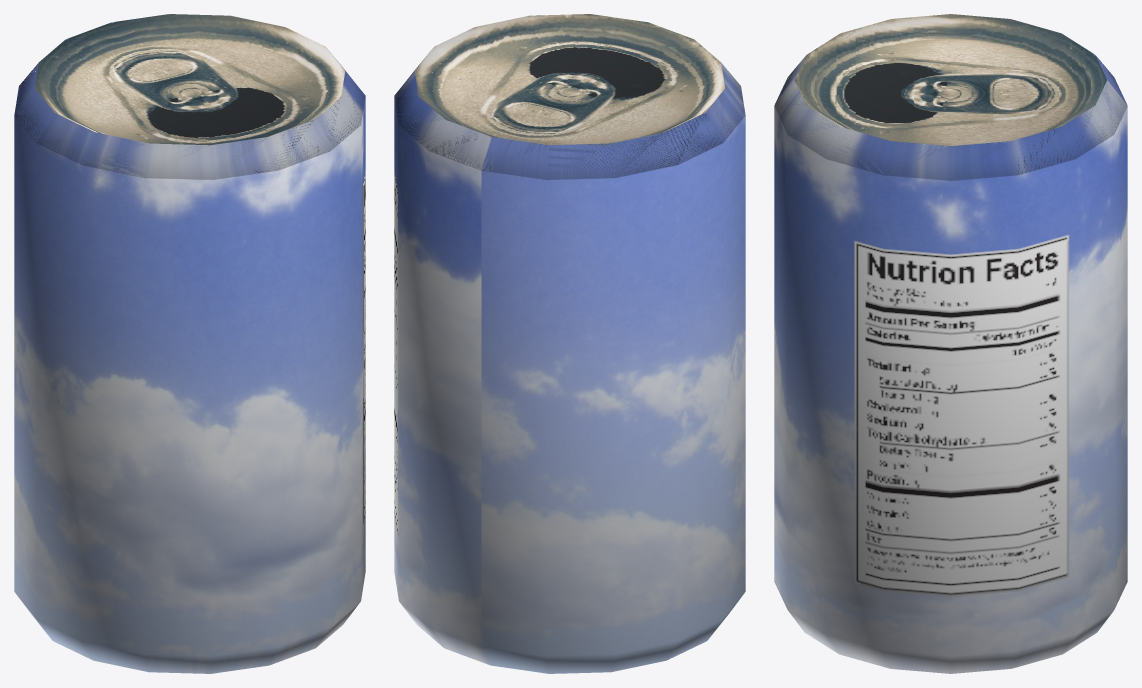
Rendered from can.fbx.
The picture shows the model from 3 angles, left to right: view 1: azimuth 30°, elevation 25°; view 2: azimuth 150°, elevation 25°; view 3: azimuth 270°, elevation 25°; orthographic projection.
Parts seen in each view (by area): view 1: Cylinder; view 2: Cylinder; view 3: Cylinder.
Part boxes in pixels (box(x1,y1,x2,y2)): Cylinder: box(14, 14, 365, 673); Cylinder: box(394, 14, 745, 673); Cylinder: box(774, 14, 1127, 673).
Bounding box in the file's own units: 200 × 329 × 200.
